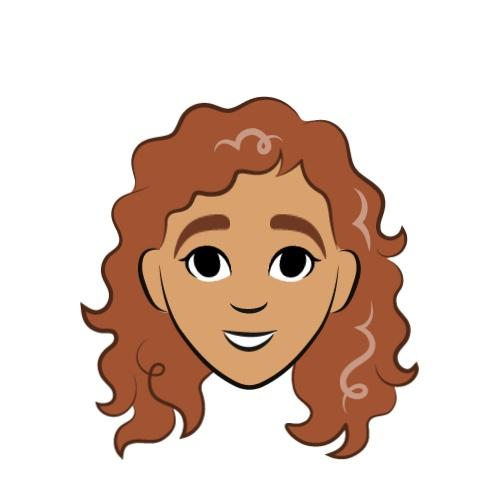NoHuman: (0, 5, 500, 500)
